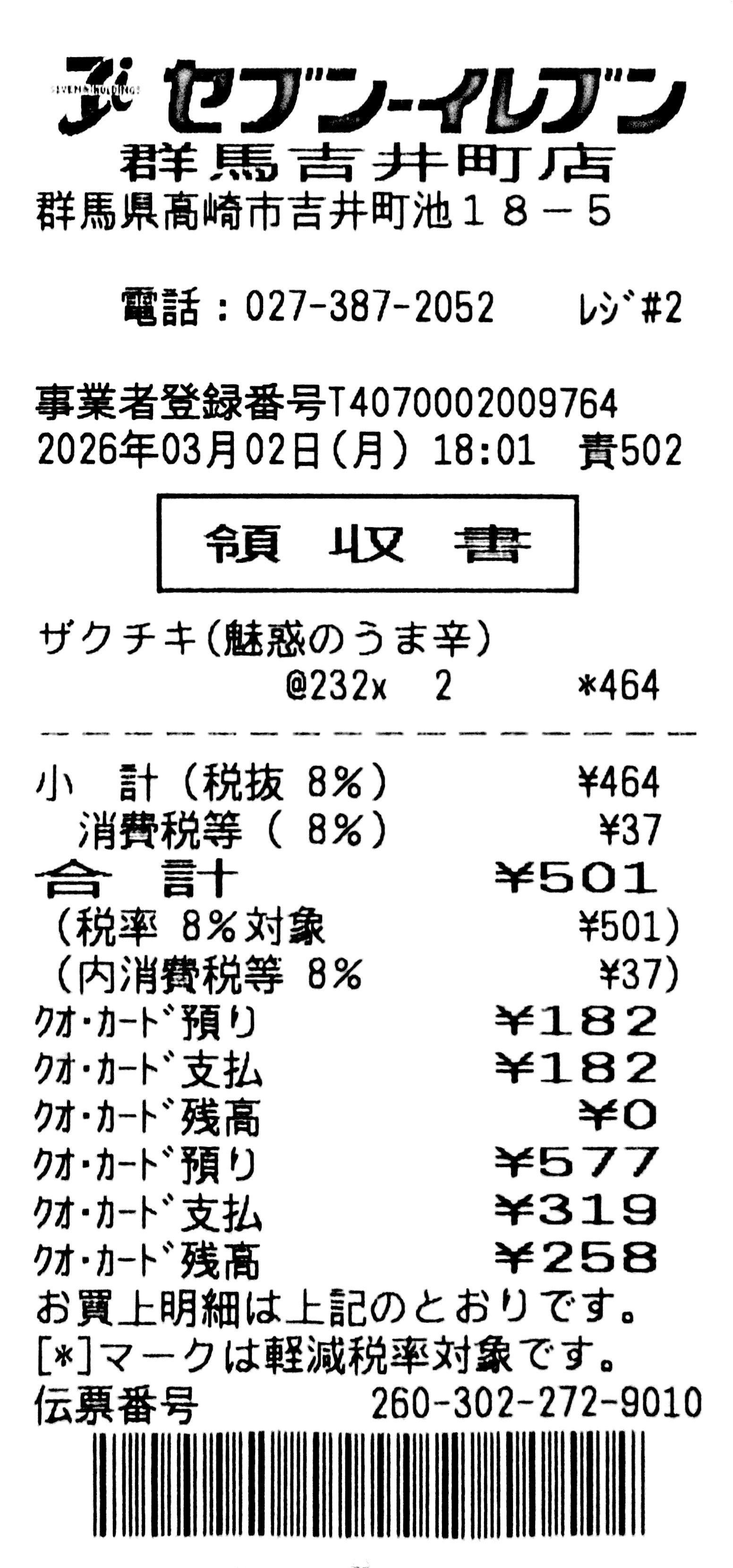Date: (33, 430, 321, 471)
Pay: (33, 857, 659, 899)
Shopname: (162, 59, 687, 134)
Telnum: (244, 287, 497, 324)
